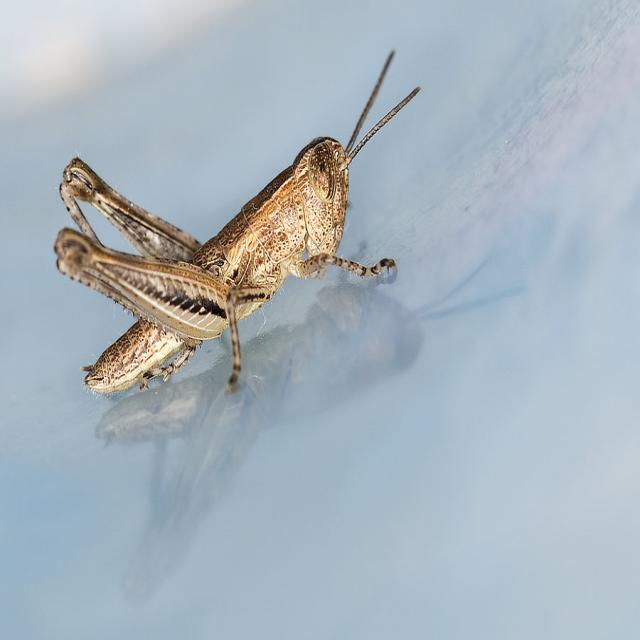ZhaMeng: (39, 48, 420, 409)
